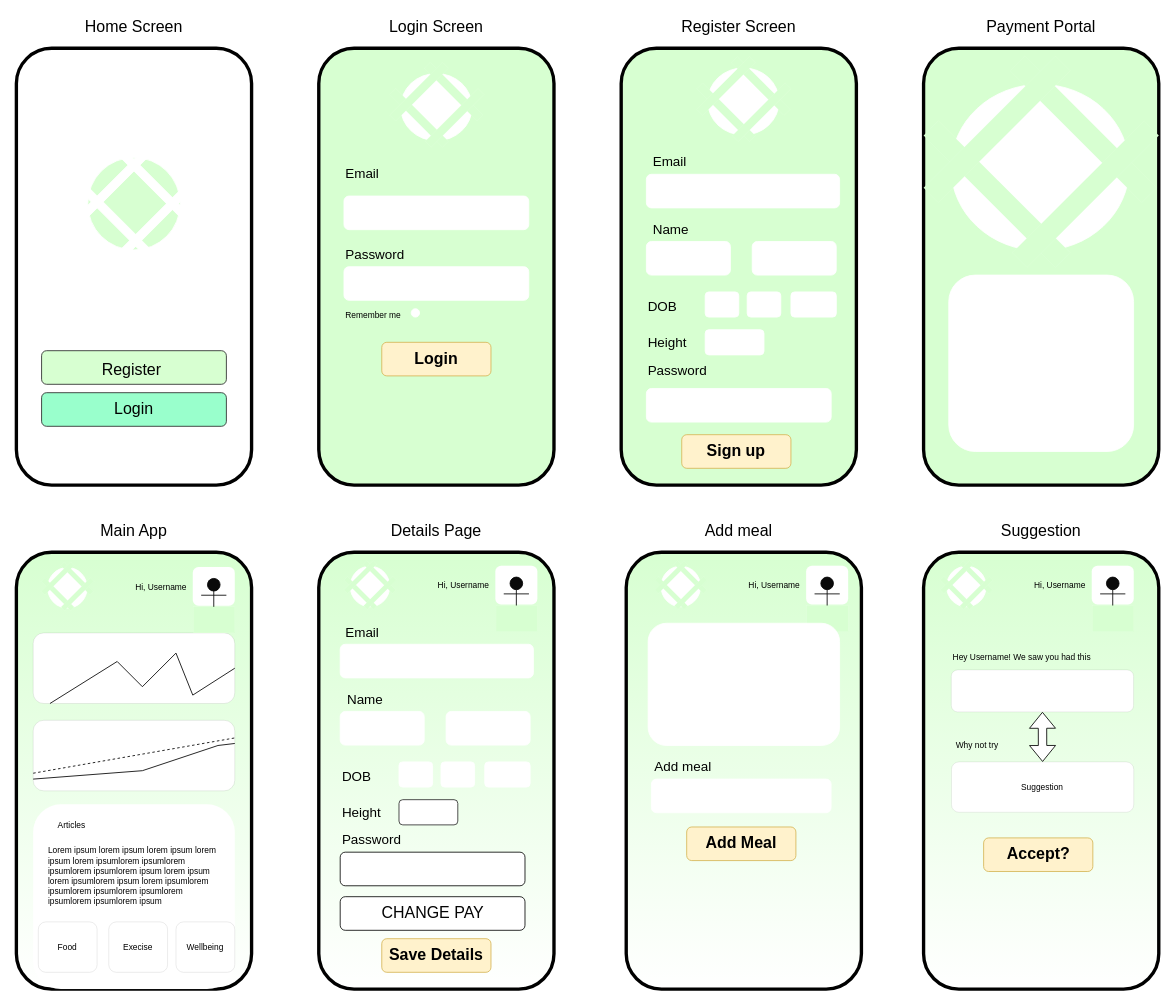
This 1174x1005 diagram has some shape labels left out. The centre of each missing label's shape, as x and y in pixels:
Calorie Counter: the point at 133,755
Exercise: the point at 133,668
Logo: the point at 133,203
Meal: the point at 1042,690
Meals today: the point at 743,684
Payment form: the point at 1041,363
